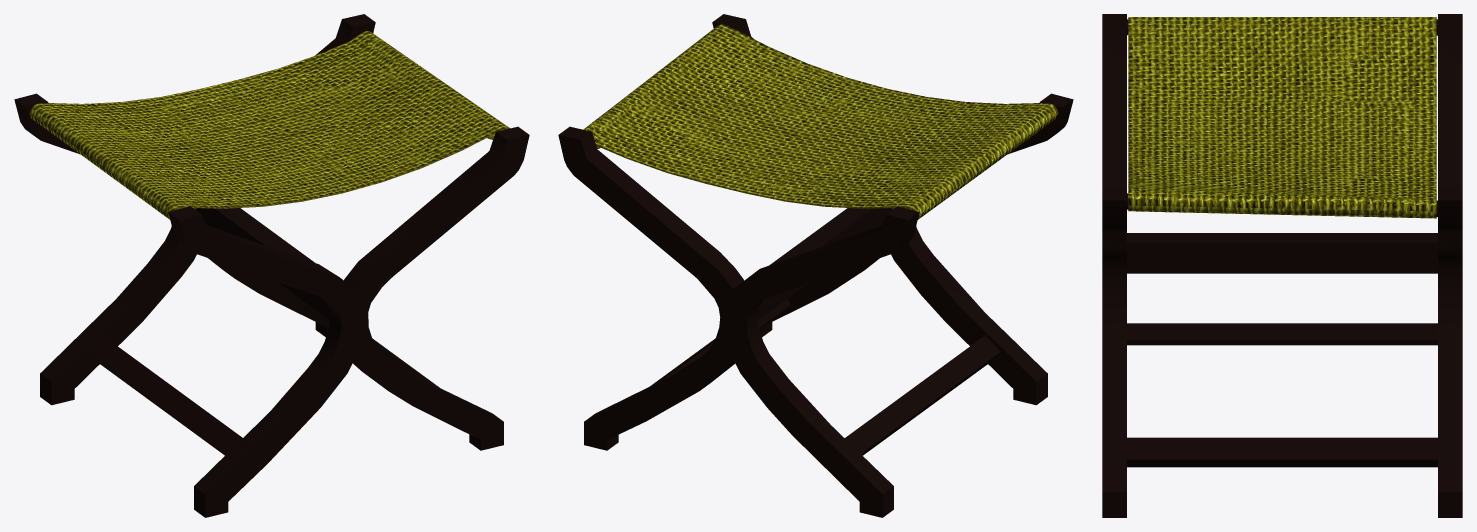
File: greenChair.obj
3 views of the same model, side by side, from view 1: azimuth 30°, elevation 25°; view 2: azimuth 150°, elevation 25°; view 3: azimuth 270°, elevation 25° (orthographic). The views are drawn at different scales.
Visible parts, largest first — view 1: green_chair; view 2: green_chair; view 3: green_chair.
Boxes of the visible parts, x1=… form: green_chair: x1=14, y1=14, x2=529, y2=517; green_chair: x1=558, y1=14, x2=1073, y2=517; green_chair: x1=1102, y1=14, x2=1462, y2=517.
Size of the model in its own units: 53.13 by 44.3 by 43.45.
Materials: 2 (1 with a texture image).
